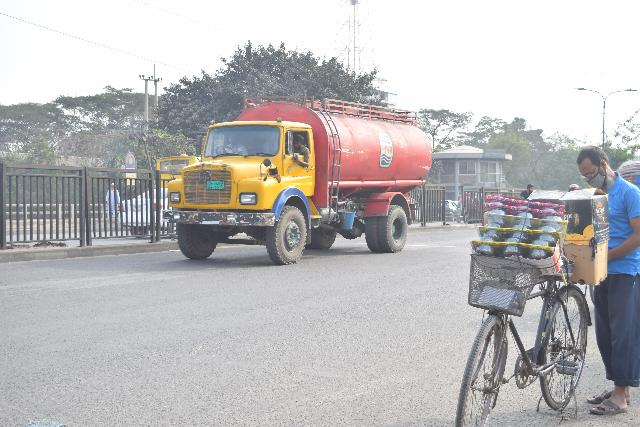truck: (151, 92, 435, 273)
